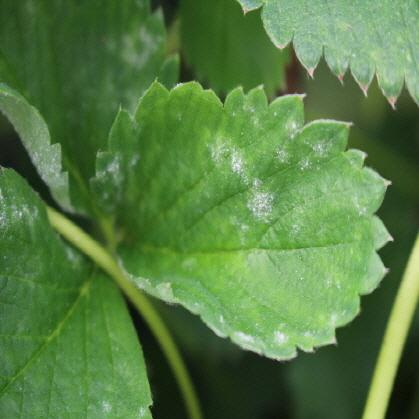Powdery Mildew Leaf: (86, 79, 394, 360), (0, 0, 182, 221), (0, 164, 154, 418)
